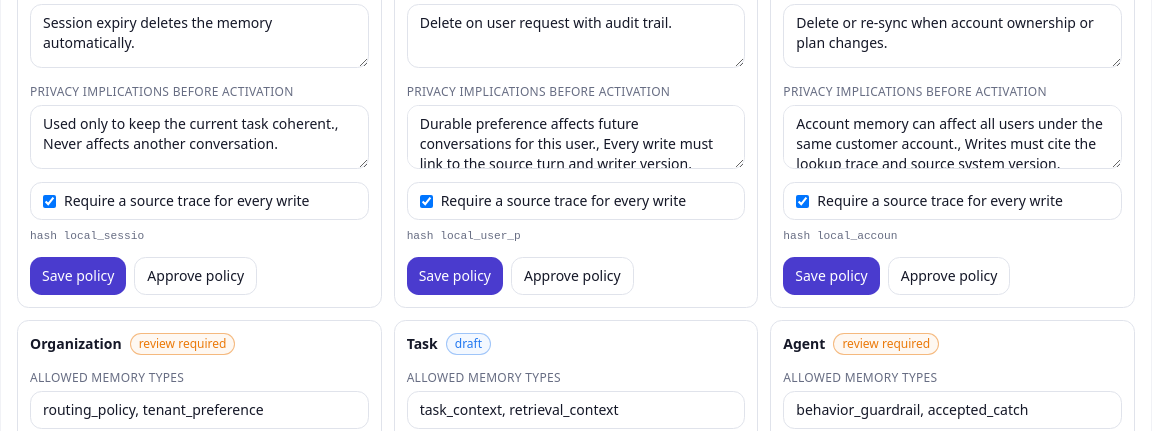
Test case: MemoryStudio › requires backend policy editing wiring when no save action is provided
The image size is (1152, 431).
(page scrolled)
Click the button with test id "memory-policy-save-user" at (455, 276), box [407,257,503,295]
(page scrolled)
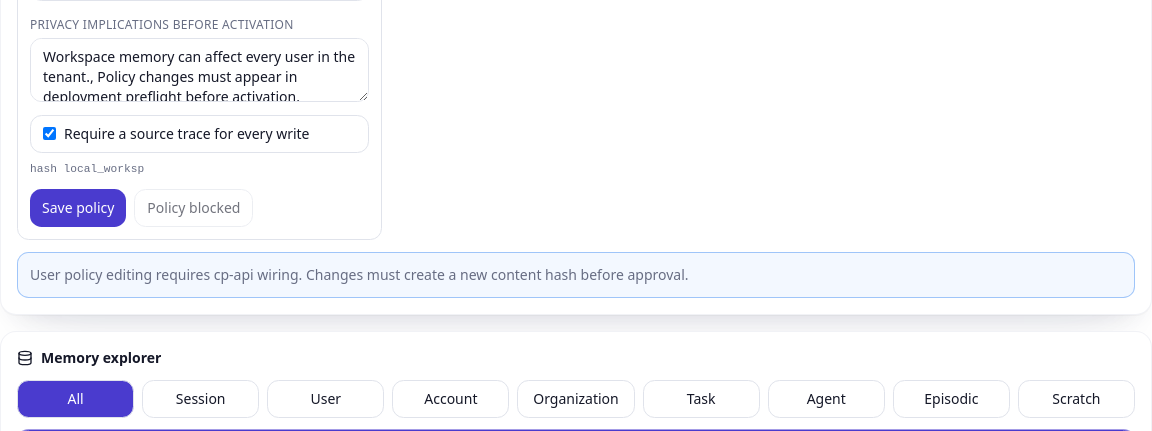
Result: the text with test id "memory-policy-notice" shows "User policy editing requires cp-api wiring" at [30,265,688,284]
